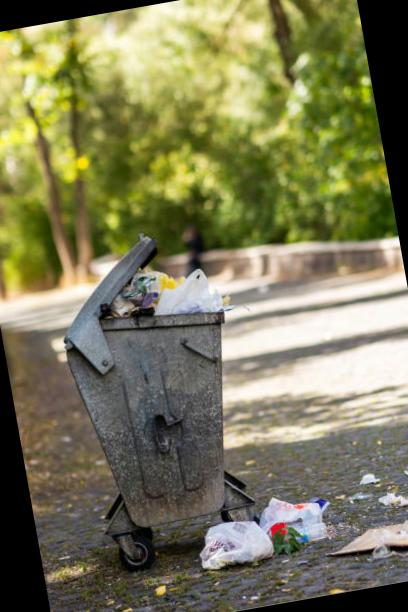trash: (87, 252, 228, 336), (188, 502, 276, 584), (250, 480, 331, 560), (339, 505, 408, 584), (378, 480, 408, 525), (312, 488, 342, 522), (358, 463, 386, 493), (399, 452, 408, 486)
trash_can_overflow: (30, 206, 346, 596)
